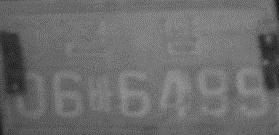0: (12, 70, 48, 121)
4: (157, 67, 194, 119)
6: (116, 67, 152, 121), (50, 67, 84, 119)
9: (196, 64, 231, 117), (234, 65, 269, 118)
바: (85, 72, 114, 116)
영: (11, 18, 49, 59)
전남_D: (62, 15, 206, 60)
